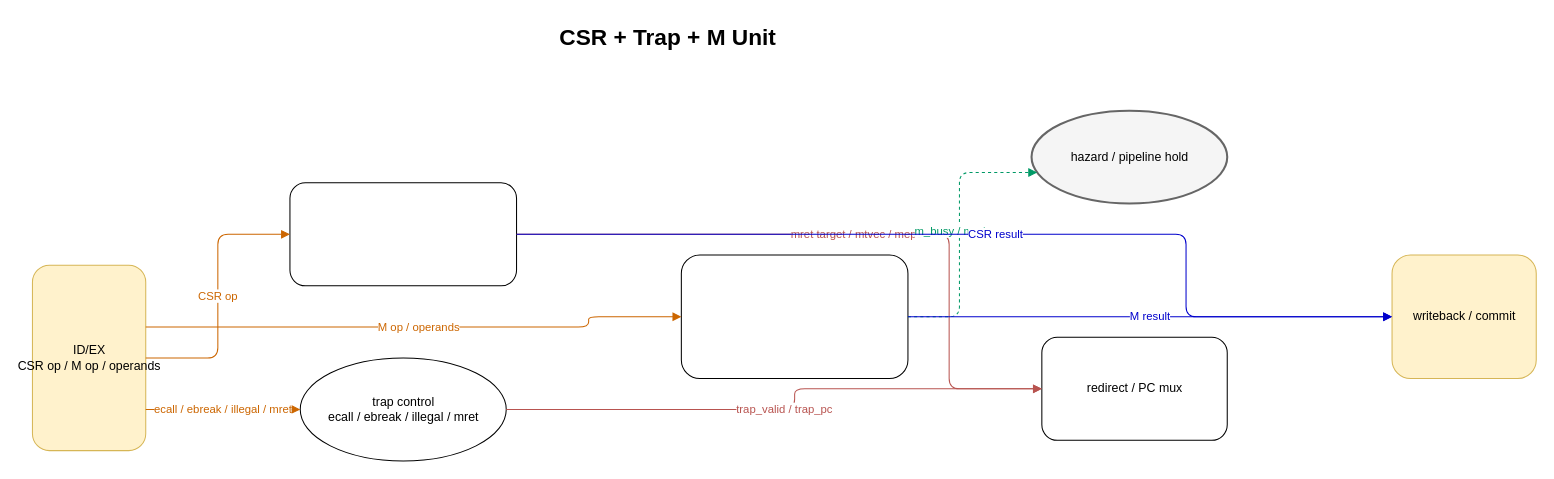
The diagram is 1554 pixels wide and 479 high, and some of its shapes have lost their labels. Each missing label, with the box of its shape:
csr_file mstatus / mtvec / mepc / mcause: (289, 182, 517, 286)
m_unit MUL / MULH / DIV / REM m_busy / m_done: (680, 254, 908, 379)
